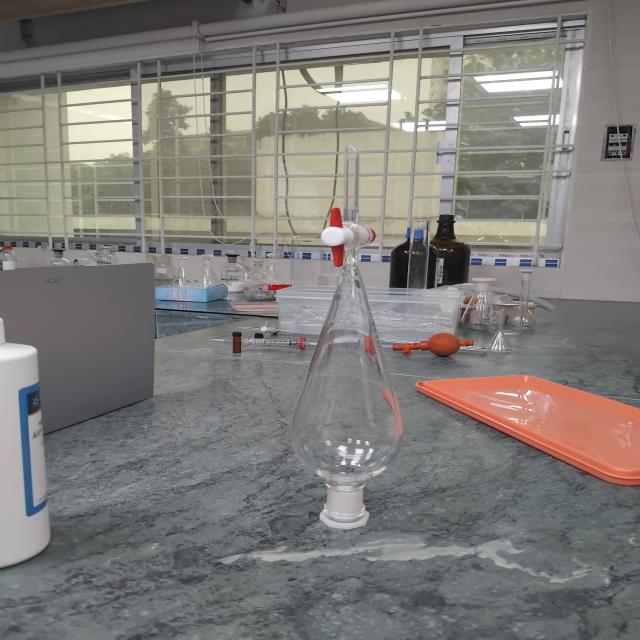Separating_Funnel: (278, 117, 435, 550)
